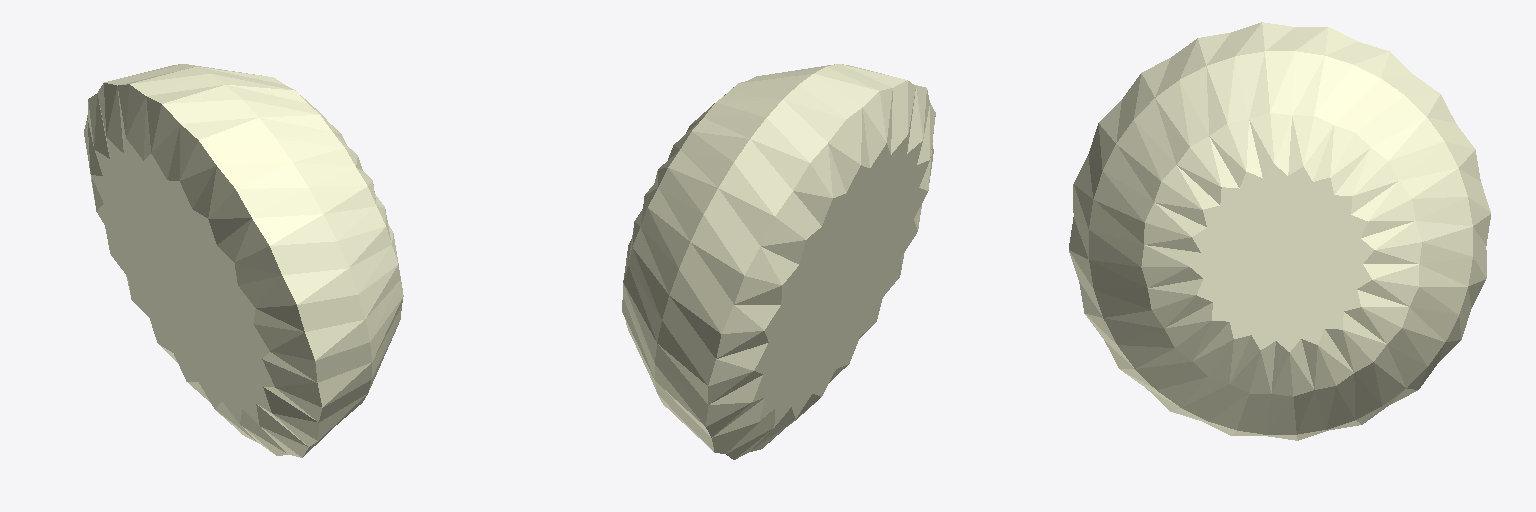
Rendered from rightsleeve.obj.
The picture shows the model from 3 angles: view 1: azimuth 30°, elevation 25°; view 2: azimuth 150°, elevation 25°; view 3: azimuth 270°, elevation 25°; orthographic projection.
Visible parts, largest first — view 1: polySurface4 righthand; view 2: polySurface4 righthand; view 3: polySurface4 righthand.
Boxes of the visible parts, <box> form: polySurface4 righthand: <box>84,64,403,457</box>; polySurface4 righthand: <box>622,64,935,459</box>; polySurface4 righthand: <box>1069,22,1490,440</box>.
Size of the model in its own units: 0.8141 by 1.3 by 1.33.